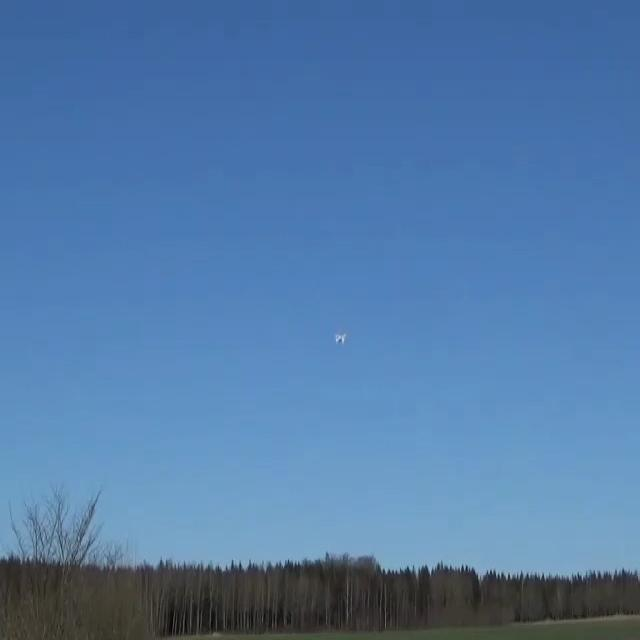drone: (335, 332, 347, 346)
